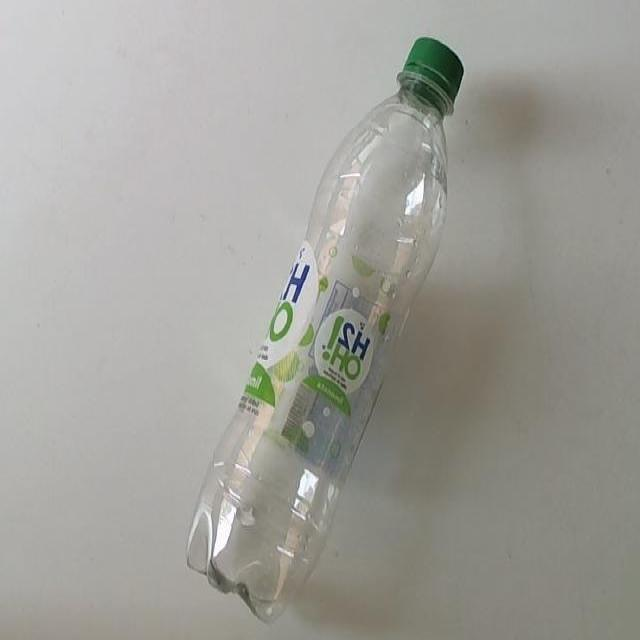non-defect: (184, 35, 466, 623)
